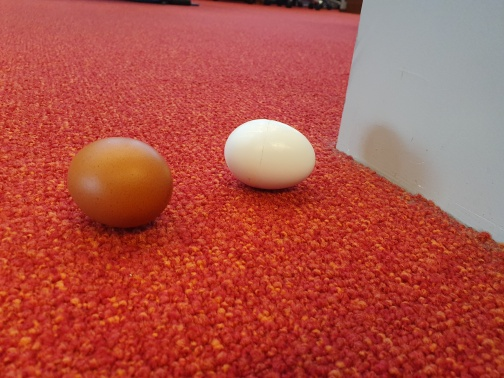egg: (67, 137, 173, 228), (223, 118, 316, 192)
